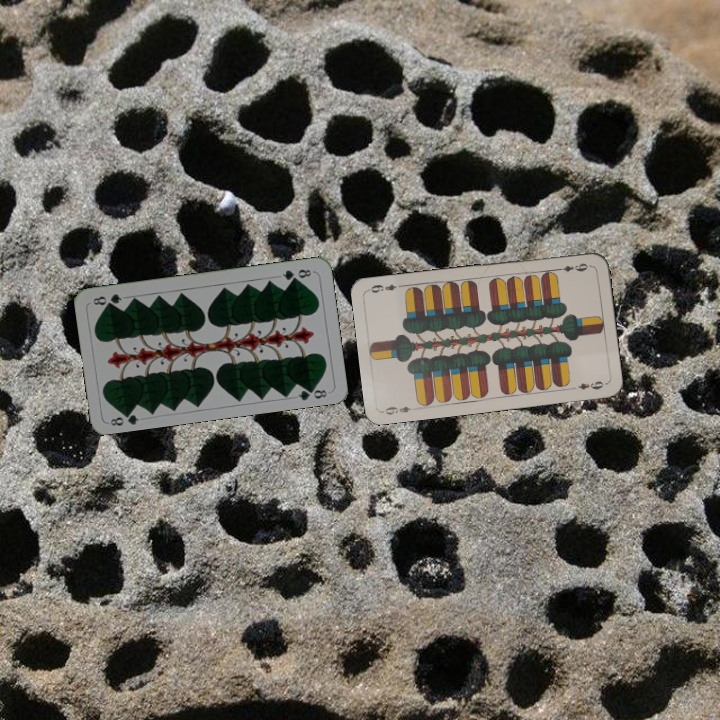E9: (552, 259, 593, 274), (379, 402, 420, 417)
G8: (106, 407, 141, 428), (278, 265, 314, 283)
